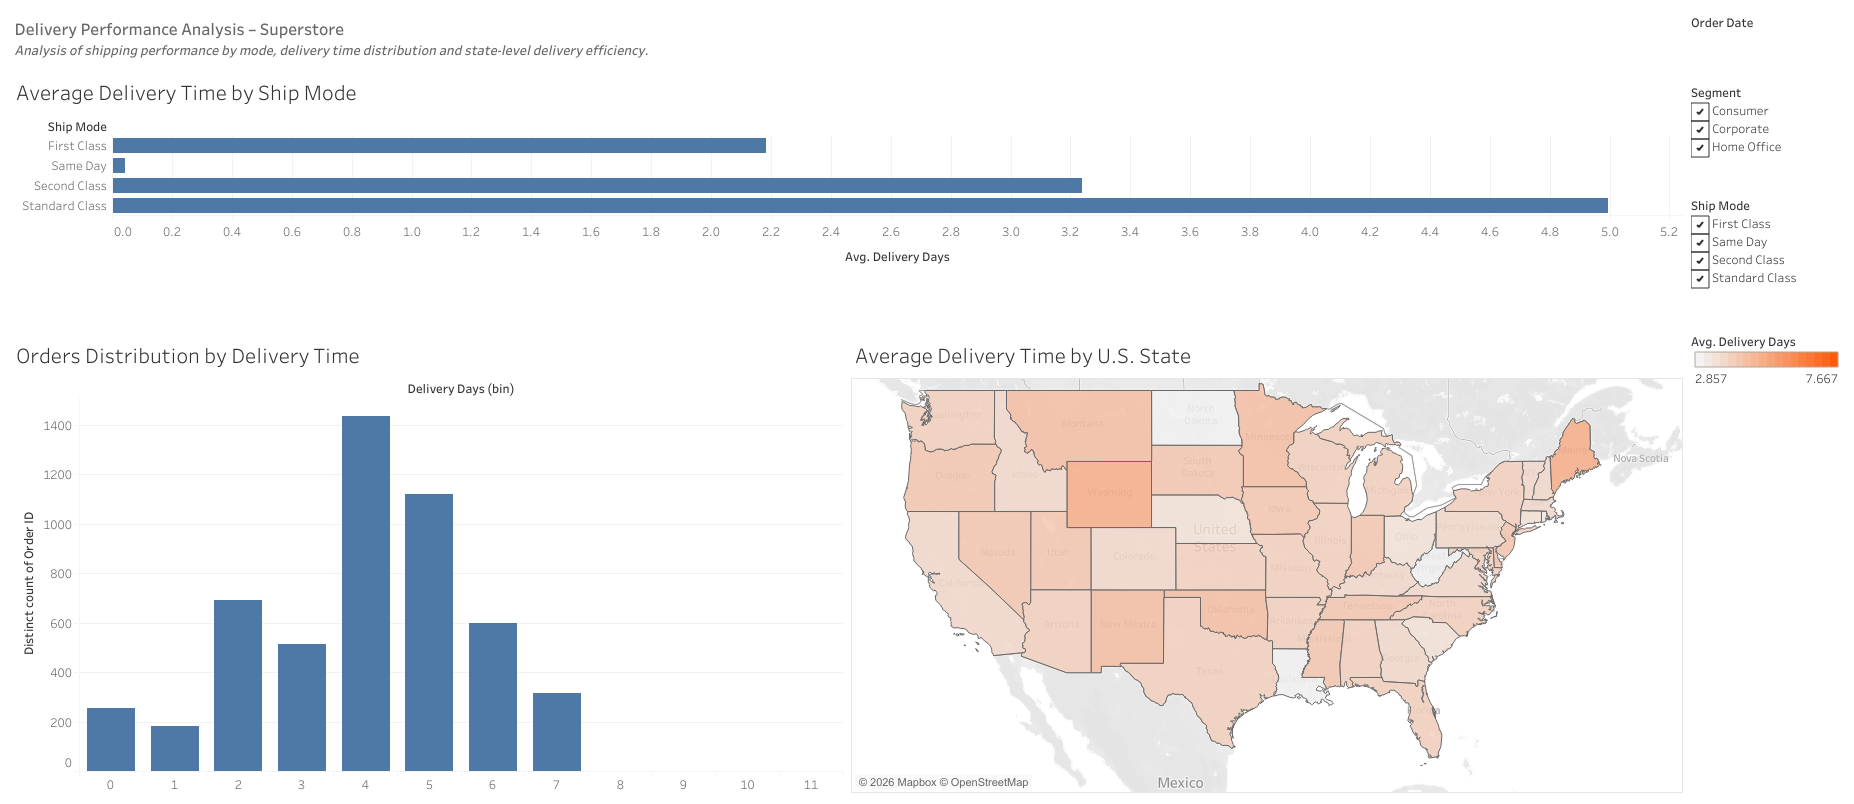

What the dashboard file says about the page in this screenshot:
{"tool":"tableau","page":{"name":"Dashboard 1","canvas":[1000,1000],"units":"permille","ordinal":0},"visuals":[{"type":"text","box":[4.8,9.8,893.8,74.9]},{"type":"filter","title":"Average Delivery Time by Ship Mode","param":"[federated.1evmztq1rkhcza1466ao81262ets].[none:Order Date:qk]","box":[898.6,9.8,96.6,89.1]},{"type":"worksheet","title":"Average Delivery Time by Ship Mode","mark":"Automatic","rows":["Ship Mode"],"cols":["Calculation_0630889981693952"],"box":[4.8,84.7,893.8,317.5]},{"type":"filter","title":"Average Delivery Time by Ship Mode","param":"[federated.1evmztq1rkhcza1466ao81262ets].[none:Segment:nk]","box":[898.6,98.9,96.6,156.3]},{"type":"filter","title":"Average Delivery Time by Ship Mode","param":"[federated.1evmztq1rkhcza1466ao81262ets].[none:Ship Mode:nk]","box":[898.6,255.2,96.6,184.4]},{"type":"worksheet","title":"Orders Distribution by Delivery Time","mark":"Automatic","rows":["Order ID"],"cols":["Delivery Days (bin)"],"box":[4.8,410.7,446.9,579.6]},{"type":"worksheet","title":"Average Delivery Time by U.S. State","mark":"Multipolygon","box":[451.7,410.7,446.9,579.6]},{"type":"legend","title":"Average Delivery Time by U.S. State","param":"[federated.1evmztq1rkhcza1466ao81262ets].[avg:Calculation_0630889981693952:qk]","box":[898.6,439.6,96.6,89.1]}]}

Visuals, with their boxes on the dashboard's canvas, which has no fixed pixel size, in thousandths of its width and height (x1, y1, x2, y2). These are canvas units, not pixel positions in the 1854x804 screenshot, which may show the page scaled, cropped or inside an application window:
text: {"left": 5, "top": 10, "right": 899, "bottom": 85}
"Average Delivery Time by Ship Mode" filter: {"left": 899, "top": 10, "right": 995, "bottom": 99}
"Average Delivery Time by Ship Mode" worksheet: {"left": 5, "top": 85, "right": 899, "bottom": 402}
"Average Delivery Time by Ship Mode" filter: {"left": 899, "top": 99, "right": 995, "bottom": 255}
"Average Delivery Time by Ship Mode" filter: {"left": 899, "top": 255, "right": 995, "bottom": 440}
"Orders Distribution by Delivery Time" worksheet: {"left": 5, "top": 411, "right": 452, "bottom": 990}
"Average Delivery Time by U.S. State" worksheet (Multipolygon marks): {"left": 452, "top": 411, "right": 899, "bottom": 990}
"Average Delivery Time by U.S. State" legend: {"left": 899, "top": 440, "right": 995, "bottom": 529}
